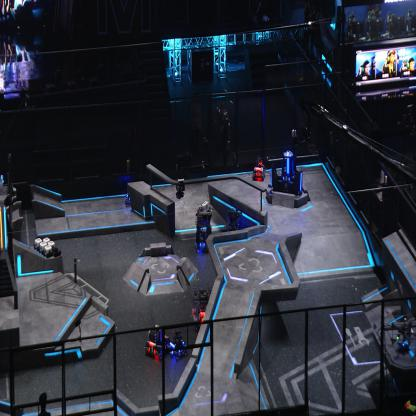car: (191, 284, 215, 331), (144, 323, 172, 360), (194, 204, 213, 252), (166, 326, 188, 360), (226, 209, 244, 245), (252, 156, 266, 180), (124, 184, 138, 206)
